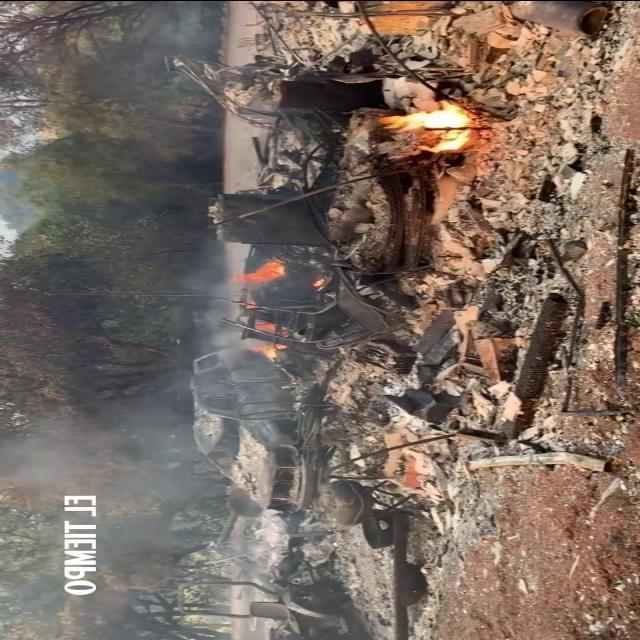Fire: (380, 104, 476, 154), (231, 255, 283, 281), (258, 344, 284, 356), (311, 276, 325, 288)
